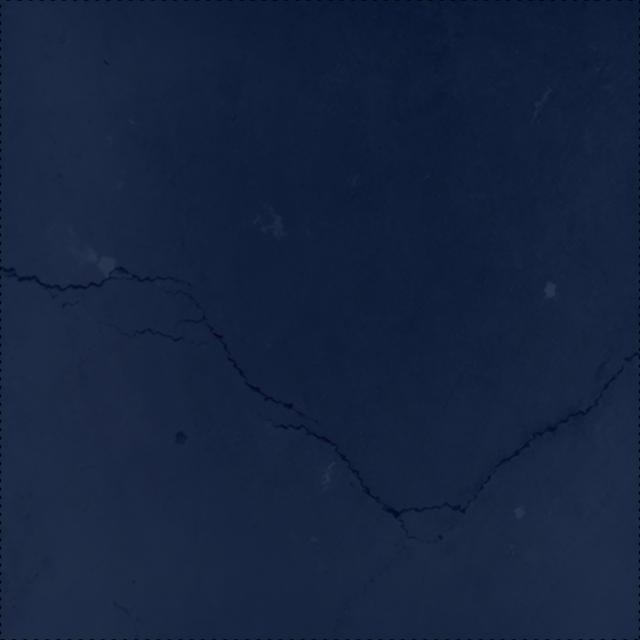crack: (255, 352, 640, 545), (156, 286, 322, 428), (0, 264, 193, 298), (334, 546, 405, 636), (94, 316, 211, 346), (62, 300, 86, 308)
